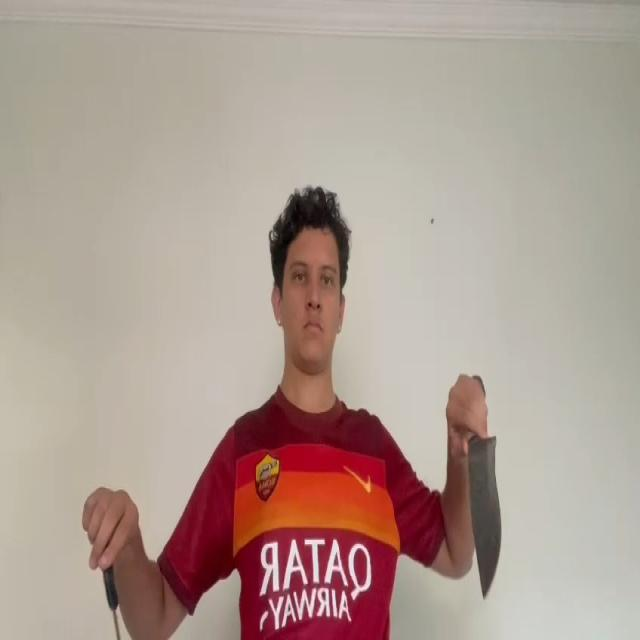knife: (467, 433, 504, 598)
